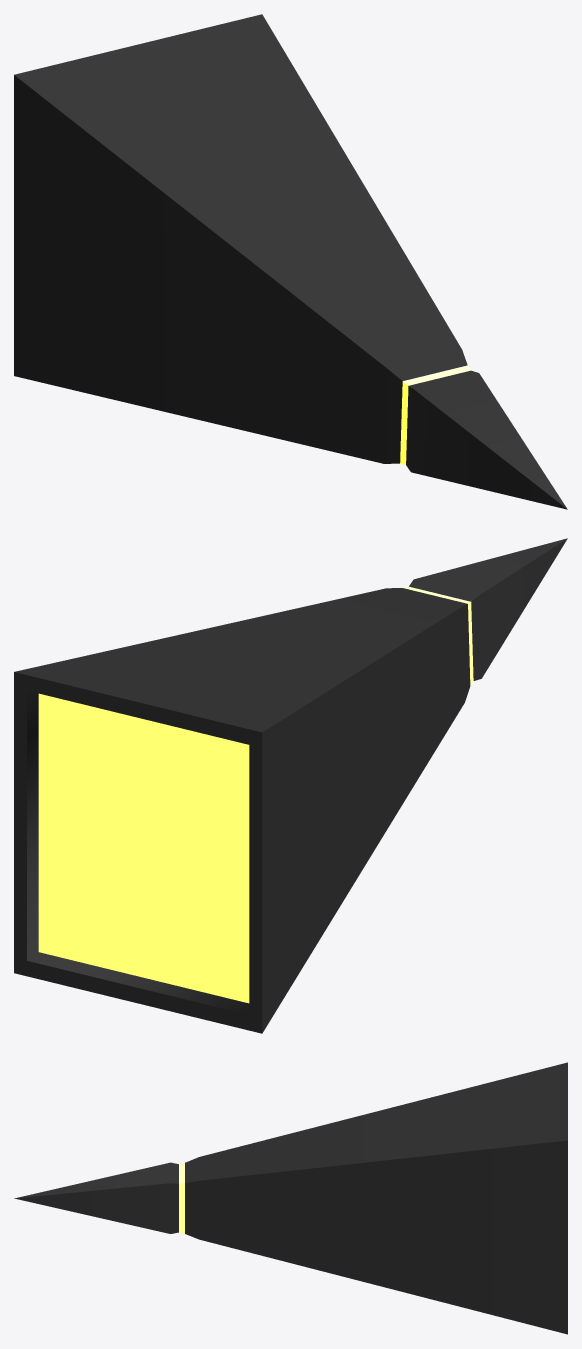
File: Rocket.fbx
3 renders of one model, top to bottom at view 1: azimuth 30°, elevation 25°; view 2: azimuth 150°, elevation 25°; view 3: azimuth 270°, elevation 25°, orthographic. The views are drawn at different scales.
Parts seen in each view (by area): view 1: Cube; view 2: Cube; view 3: Cube.
Boxes of the visible parts, x1,y1,x2,y2 form: Cube: (14, 14, 567, 509); Cube: (14, 538, 567, 1033); Cube: (14, 1062, 567, 1334).
Size of the model in its own units: 187 by 217 by 561.
